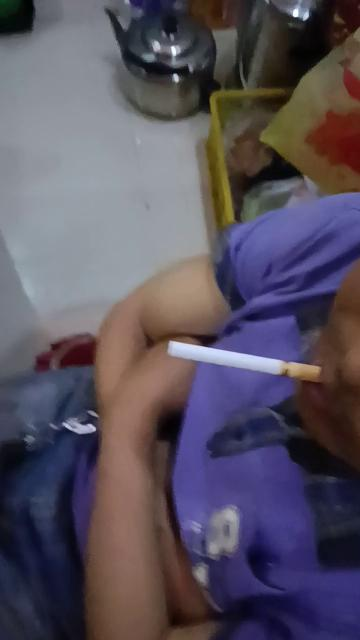Cigarette: (168, 338, 324, 384)
